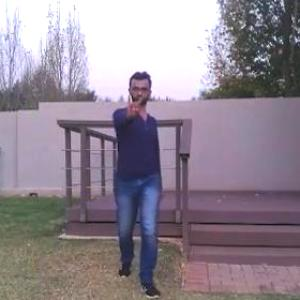takeoff-hand: (123, 86, 150, 122)
